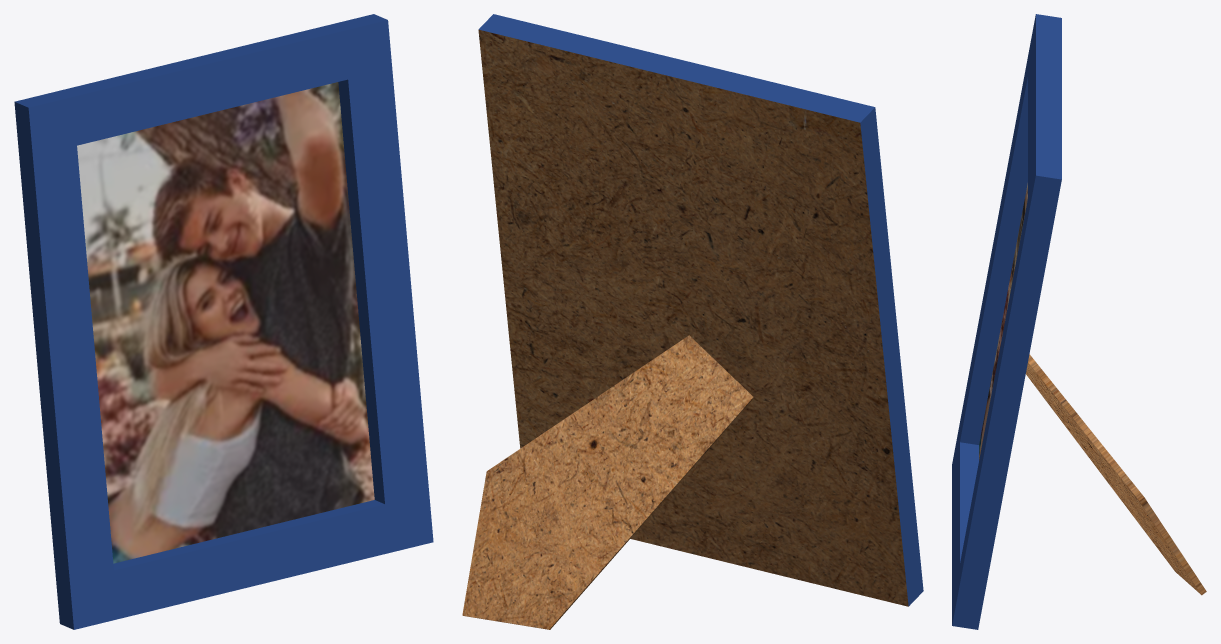
The model's file is Photo 1.FBX.
3 renders of one model, left to right at view 1: azimuth 30°, elevation 25°; view 2: azimuth 150°, elevation 25°; view 3: azimuth 270°, elevation 25°, orthographic. The views are drawn at different scales.
Parts seen in each view (by area): view 1: Photo 1; view 2: Photo 1; view 3: Photo 1.
Boxes of the visible parts, box(x1,y1,x2,y2) form: Photo 1: box(14, 14, 433, 629); Photo 1: box(462, 14, 923, 629); Photo 1: box(952, 14, 1206, 629).
Bounding box in the file's own units: 14.3 × 18.75 × 9.53.
1 material, 1 textured.
